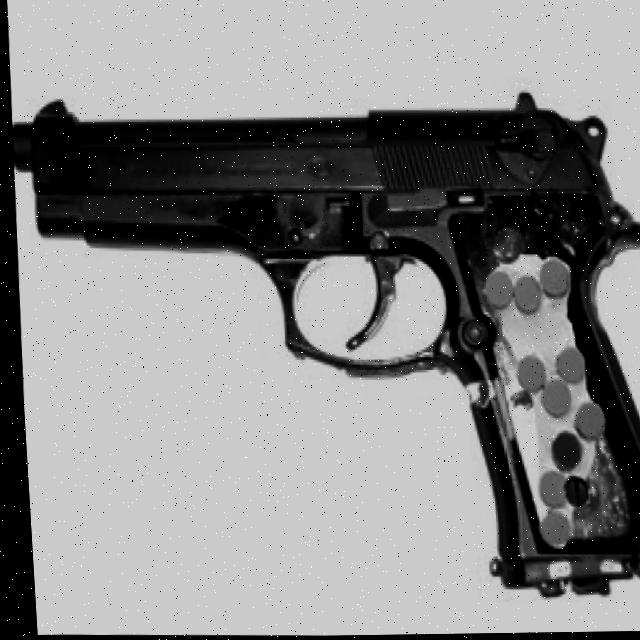pistol: (4, 85, 640, 602)
